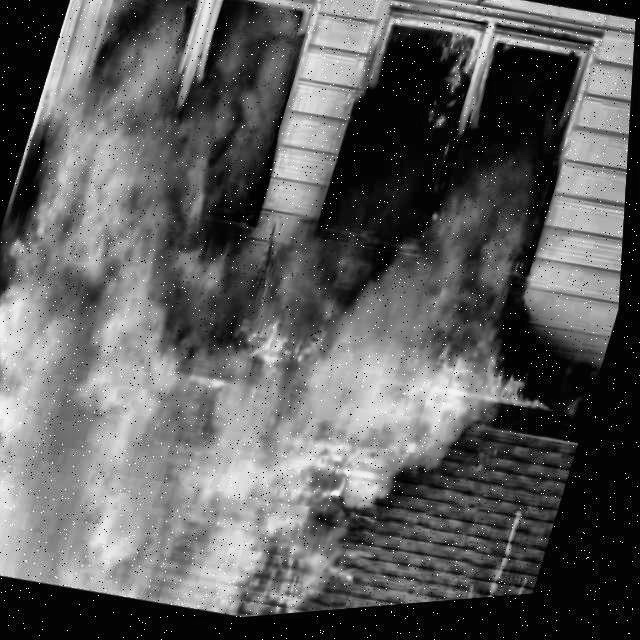Fire: (417, 327, 564, 449), (239, 296, 357, 396), (415, 28, 489, 154)
Smoke: (0, 0, 359, 623), (272, 95, 562, 361), (179, 365, 457, 627)
